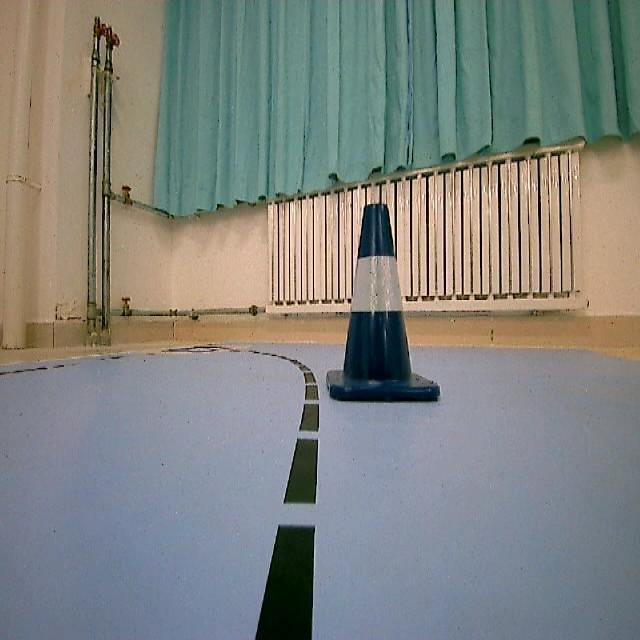obstacle: (330, 204, 429, 406)
